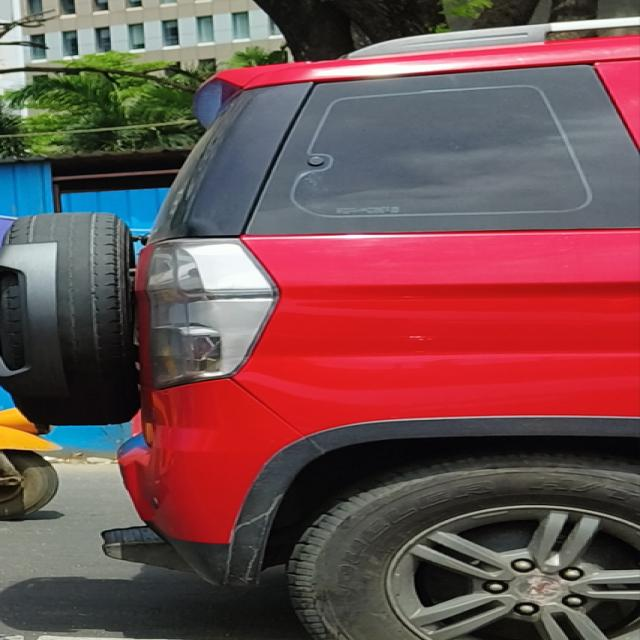scratch: (217, 492, 291, 581), (407, 331, 443, 351)
